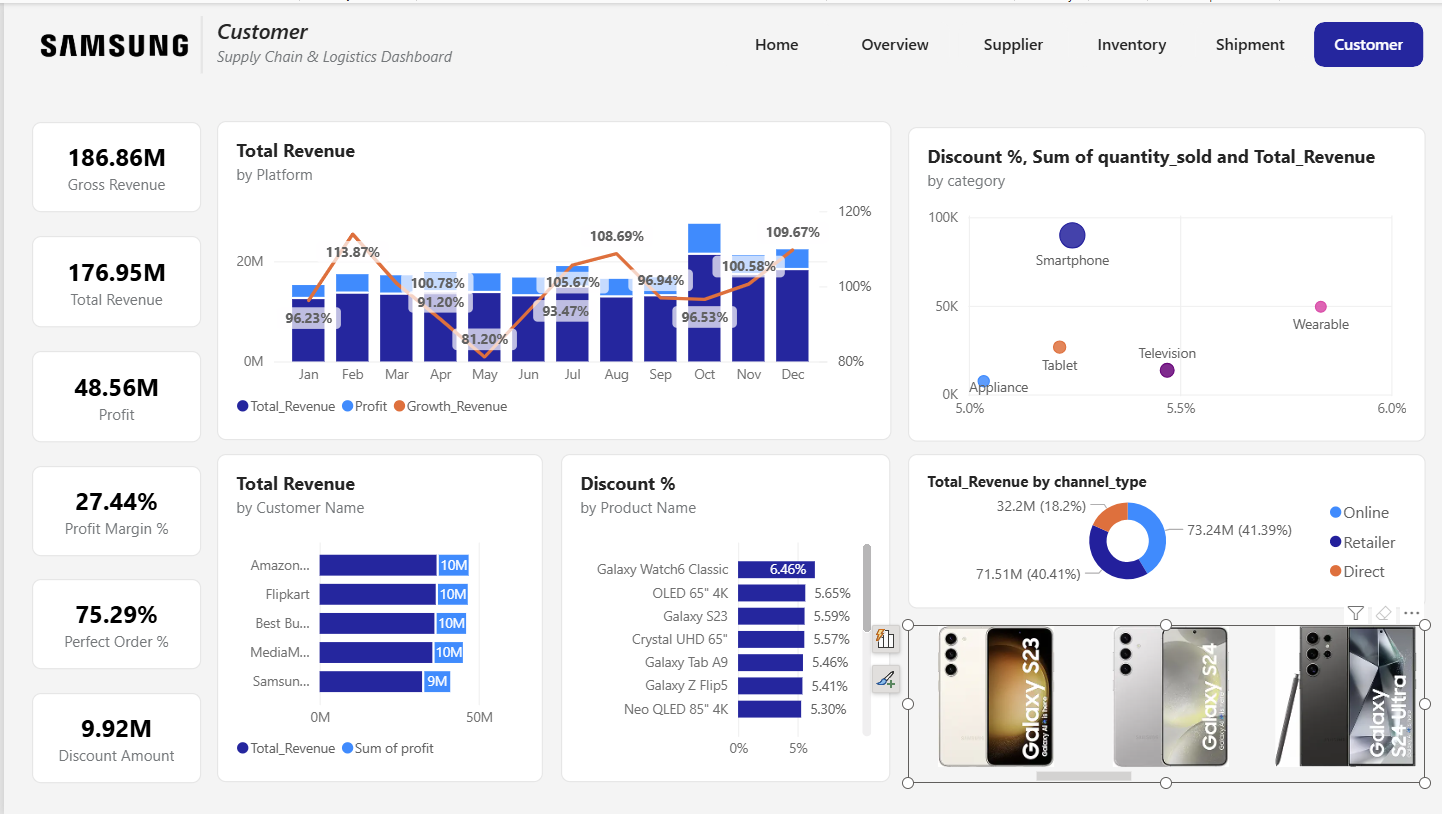

What the dashboard file says about the page in this screenshot:
{"tool":"powerbi","page":{"name":"Customer","canvas":[1280,720],"ordinal":5},"visuals":[{"type":"shape","title":"Customer","box":[188.5,11.1,236.9,51.4],"z":0},{"type":"shape","box":[162.3,11.1,26.2,51.4],"z":1000},{"type":"image","box":[13.1,20.2,162.3,34.3],"z":2000},{"type":"cardVisual","fields":{"Data":["MeasuresTable.Profit"]},"box":[25.2,308.4,150.2,80.6],"z":3000},{"type":"cardVisual","fields":{"Data":["MeasuresTable.Profit Margin %"]},"box":[25.2,410.2,150.2,79.6],"z":4000},{"type":"cardVisual","fields":{"Data":["MeasuresTable.Perfect_Order %"]},"box":[25.2,511,150.2,79.6],"z":5000},{"type":"cardVisual","fields":{"Data":["Sum(fact_sales.discount_amount)"]},"box":[25.2,611.8,150.2,79.6],"z":6000},{"type":"cardVisual","fields":{"Data":["Sum(fact_sales.gross_revenue)"]},"box":[25.2,105.8,150.2,79.6],"z":7000},{"type":"cardVisual","fields":{"Data":["MeasuresTable.Total_Revenue"]},"box":[25.2,206.6,150.2,80.6],"z":8000},{"type":"barChart","title":"Total Revenue","fields":{"Category":["dim_customer.customer_name"],"Y":["MeasuresTable.Total_Revenue","Sum(fact_sales.profit)"]},"box":[188.5,400.1,289.3,291.3],"z":9000},{"type":"donutChart","fields":{"Y":["MeasuresTable.Total_Revenue"],"Category":["dim_customer.channel_type"]},"box":[801.3,400.1,458.6,137.1],"z":10000},{"type":"lineStackedColumnComboChart","title":"Total Revenue","fields":{"Category":["dim_date.Month_Short"],"Y":["MeasuresTable.Total_Revenue","MeasuresTable.Profit"],"Y2":["MeasuresTable.Growth_Revenue"]},"box":[188.5,104.8,597.7,283.2],"z":11000},{"type":"scatterChart","fields":{"X":["MeasuresTable.Discount %"],"Y":["Sum(fact_sales.quantity_sold)"],"Series":["dim_product.category"],"Size":["MeasuresTable.Total_Revenue"]},"box":[801.3,109.9,458.6,279.2],"z":12000},{"type":"clusteredBarChart","title":"Discount %","fields":{"Y":["MeasuresTable.Discount %"],"Category":["dim_product.product_name"]},"box":[493.9,400.1,292.3,291.3],"z":13000},{"type":"advancedSlicerVisual","fields":{"Values":["dim_product.product_name"]},"box":[801.3,551.3,458.6,140.1],"z":14000},{"type":"pageNavigator","box":[637,17.1,622.9,40.3],"z":15000}]}

Visuals, with their boxes in screenshot pixels (x1, y1, x2, y2), scaled from the page's 1280x720 canvas onto the 1442x814 screenshot:
"Customer" shape: Rect(212, 13, 479, 71)
shape: Rect(183, 13, 212, 71)
image: Rect(15, 23, 198, 62)
cardVisual - MeasuresTable.Profit: Rect(28, 349, 198, 440)
cardVisual - MeasuresTable.Profit Margin %: Rect(28, 464, 198, 554)
cardVisual - MeasuresTable.Perfect_Order %: Rect(28, 578, 198, 668)
cardVisual - Sum(fact_sales.discount_amount): Rect(28, 692, 198, 782)
cardVisual - Sum(fact_sales.gross_revenue): Rect(28, 120, 198, 210)
cardVisual - MeasuresTable.Total_Revenue: Rect(28, 234, 198, 325)
"Total Revenue" barChart: Rect(212, 452, 538, 782)
donutChart - MeasuresTable.Total_Revenue x dim_customer.channel_type: Rect(903, 452, 1419, 607)
"Total Revenue" lineStackedColumnComboChart: Rect(212, 118, 886, 439)
scatterChart - MeasuresTable.Discount % x Sum(fact_sales.quantity_sold): Rect(903, 124, 1419, 440)
"Discount %" clusteredBarChart: Rect(556, 452, 886, 782)
advancedSlicerVisual - dim_product.product_name: Rect(903, 623, 1419, 782)
pageNavigator: Rect(718, 19, 1419, 65)
